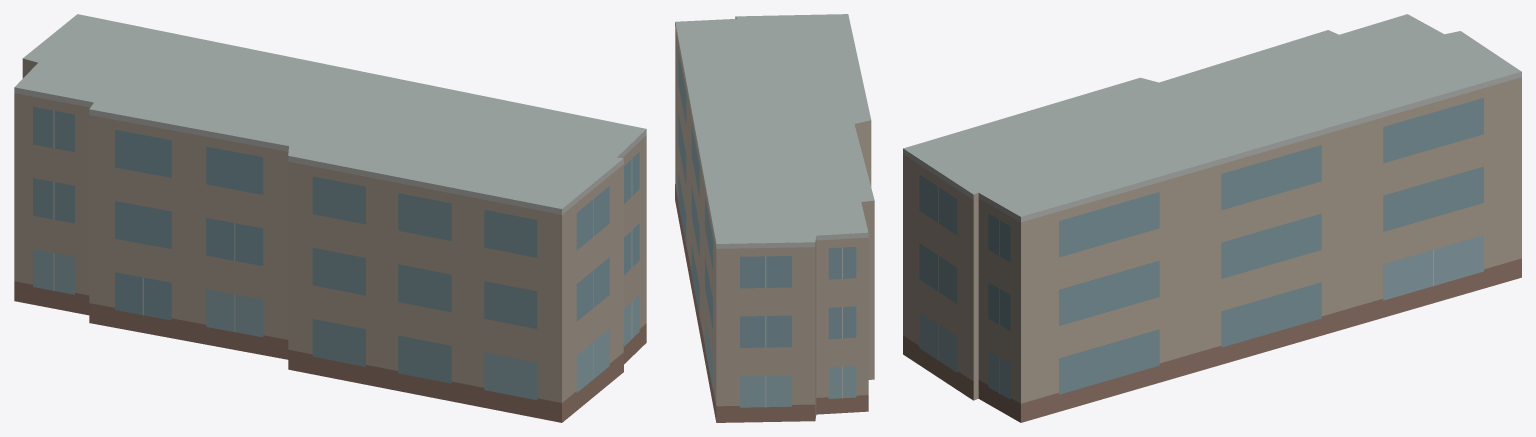
Rendered from survey-upis-33005201.glb.
3 views of the same model, side by side, from view 1: azimuth 30°, elevation 25°; view 2: azimuth 150°, elevation 25°; view 3: azimuth 270°, elevation 25° (orthographic). The views are drawn at different scales.
Visible parts, largest first — view 1: survey-upis-33005201.tmp; view 2: survey-upis-33005201.tmp; view 3: survey-upis-33005201.tmp.
Part boxes in pixels (box(x1,y1,x2,y2)): survey-upis-33005201.tmp: box(14, 14, 646, 422); survey-upis-33005201.tmp: box(675, 14, 874, 422); survey-upis-33005201.tmp: box(903, 14, 1521, 422).
Size of the model in its own units: 19.02 by 9 by 24.51.
